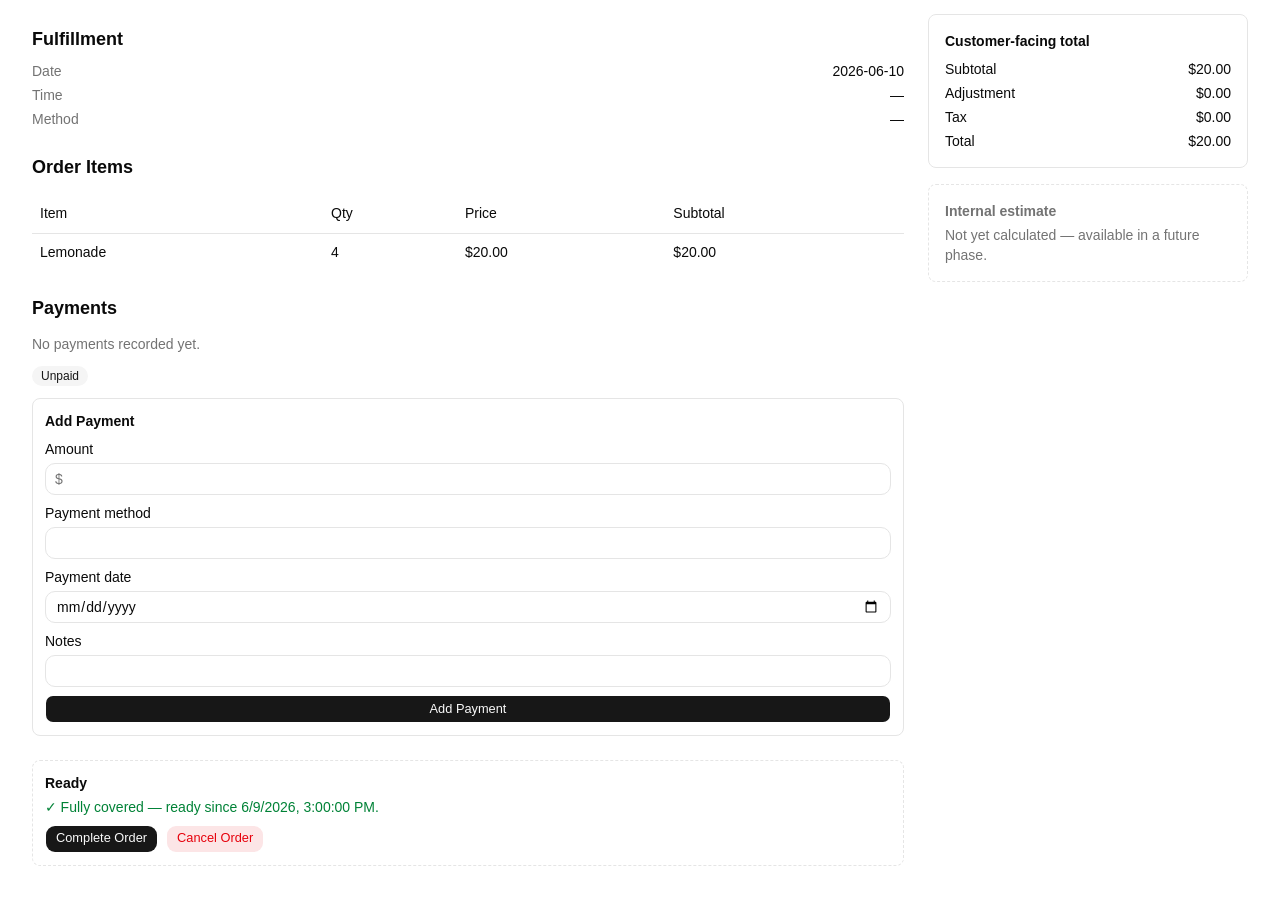
Test: Order Details — Complete Order › surfaces a coverage-lost rejection as a clear, non-destructive error
(page scrolled)
Click the button "Complete Order" at (102, 838), box [45, 824, 158, 852]
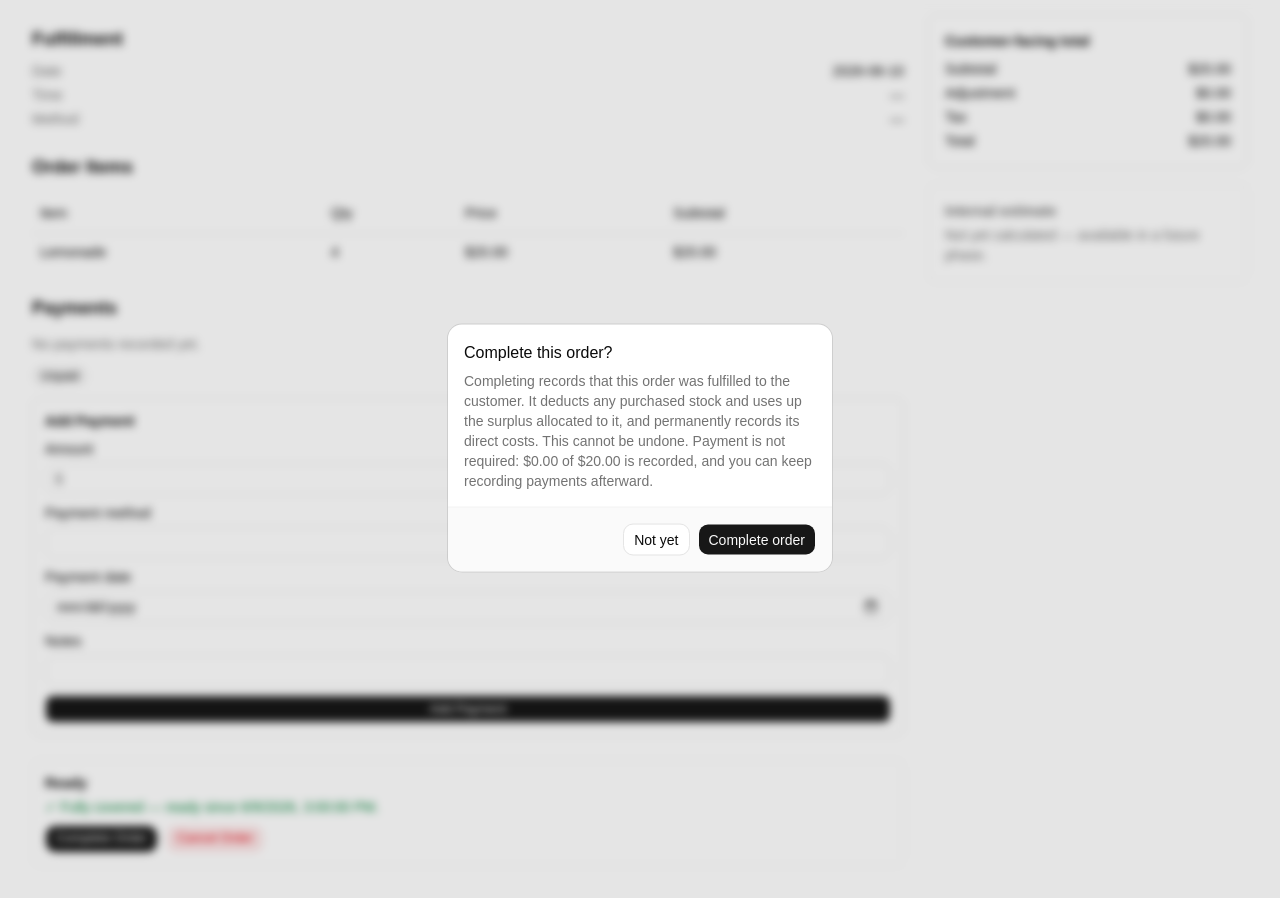
Click the button "Complete order" at (757, 540), box [698, 524, 816, 556]
(page scrolled)
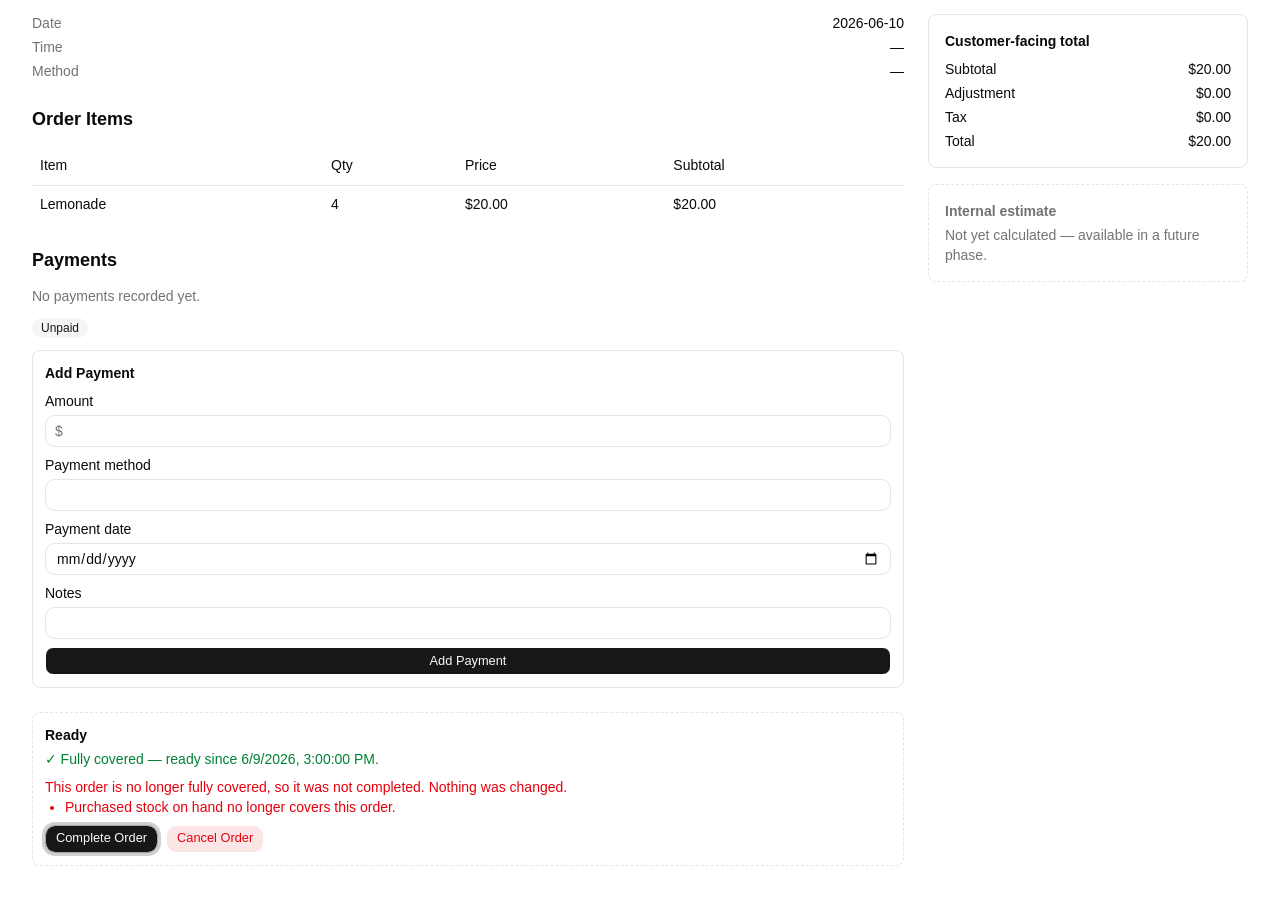
expect the button "Complete Order" is shown: met, box [45, 824, 158, 852]
expect the text "no longer fully covered, so it was not completed" is shown: met, box [45, 778, 567, 794]
expect the list item "Purchased stock on hand no longer covers this order." is shown: met, box [65, 798, 396, 814]
